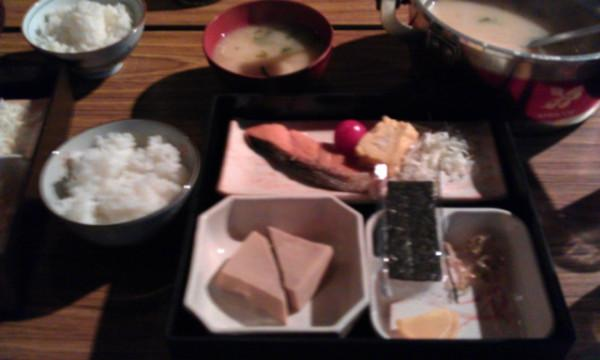rice: (57, 133, 185, 224), (32, 0, 131, 52)
